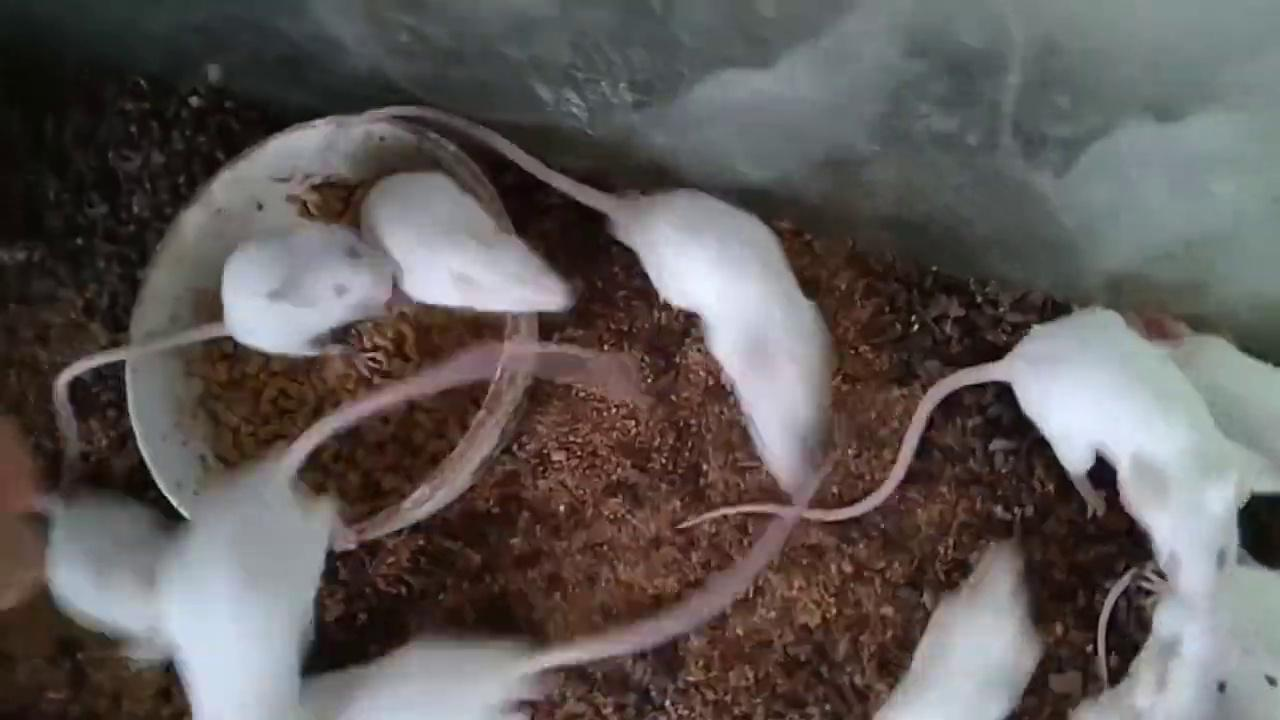rat: (1012, 303, 1266, 607), (604, 189, 840, 496), (156, 441, 359, 720), (872, 540, 1050, 720), (360, 168, 578, 310), (15, 484, 166, 665), (221, 224, 398, 377), (302, 631, 549, 720), (1181, 615, 1280, 720)
